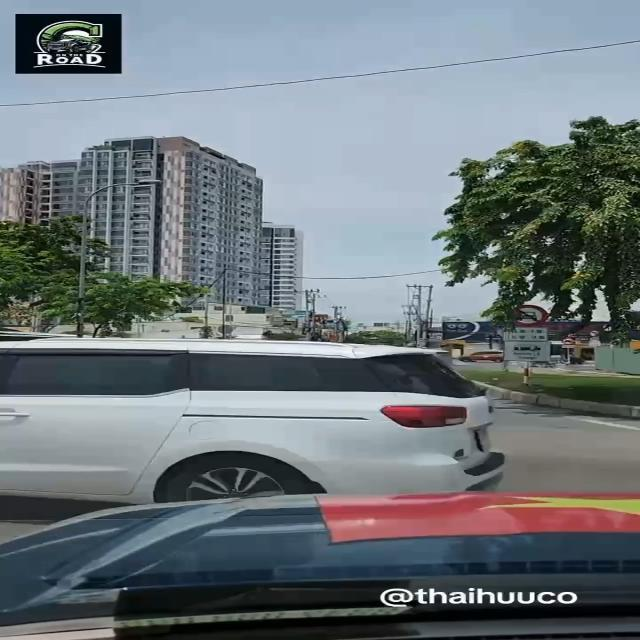103a-cam-oto: (504, 304, 547, 328)
